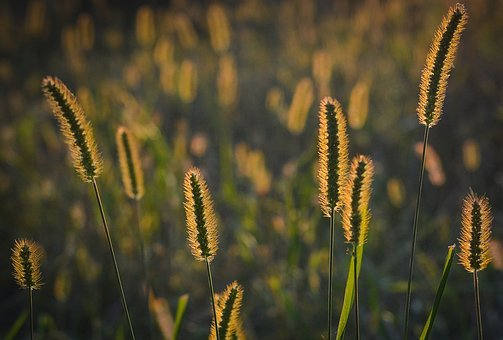flower: (11, 11, 497, 340)
